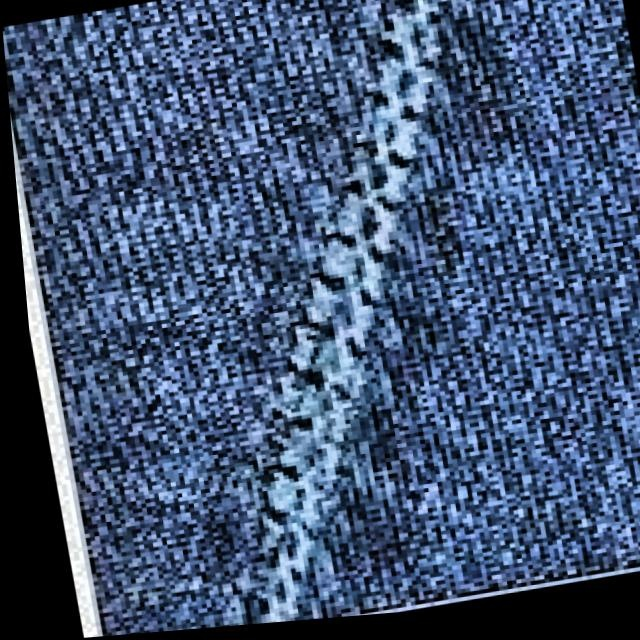seam: (123, 2, 590, 605)
